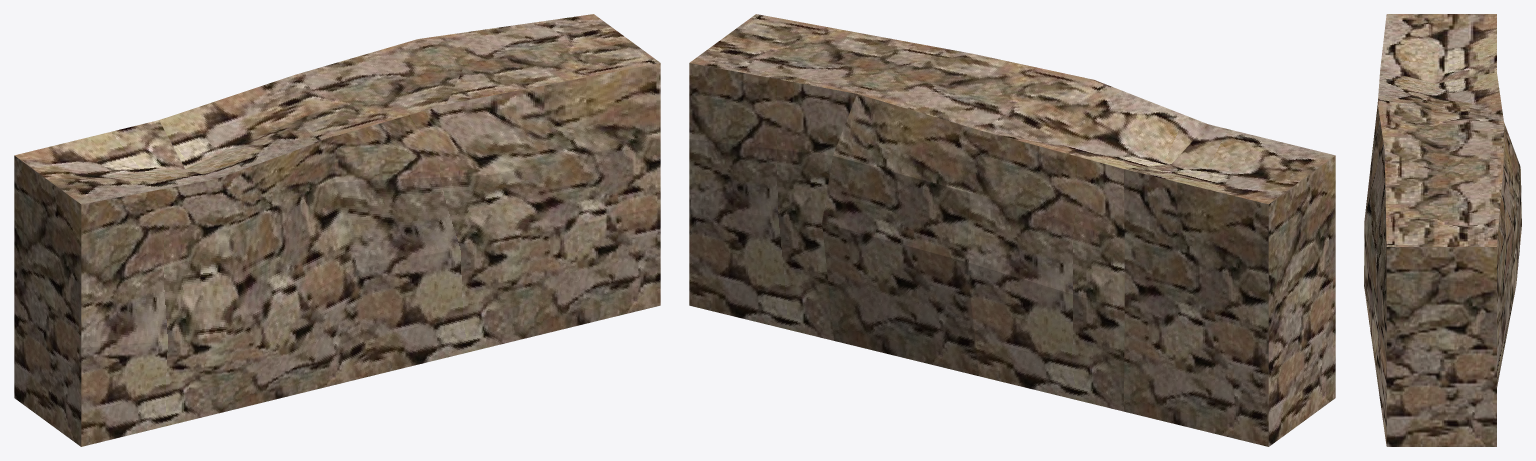
The model's file is lf_drystone_wall.glb.
The picture shows the model from 3 angles, left to right: view 1: azimuth 30°, elevation 25°; view 2: azimuth 150°, elevation 25°; view 3: azimuth 270°, elevation 25°; orthographic projection. The views are drawn at different scales.
Parts seen in each view (by area): view 1: drystone_wall; view 2: drystone_wall; view 3: drystone_wall.
Boxes of the visible parts, <box> form: drystone_wall: <box>14,14,660,446</box>; drystone_wall: <box>689,14,1335,446</box>; drystone_wall: <box>1364,14,1521,446</box>.
Bounding box in the file's own units: 2 × 0.846 × 0.5728.
1 material, 1 textured.
